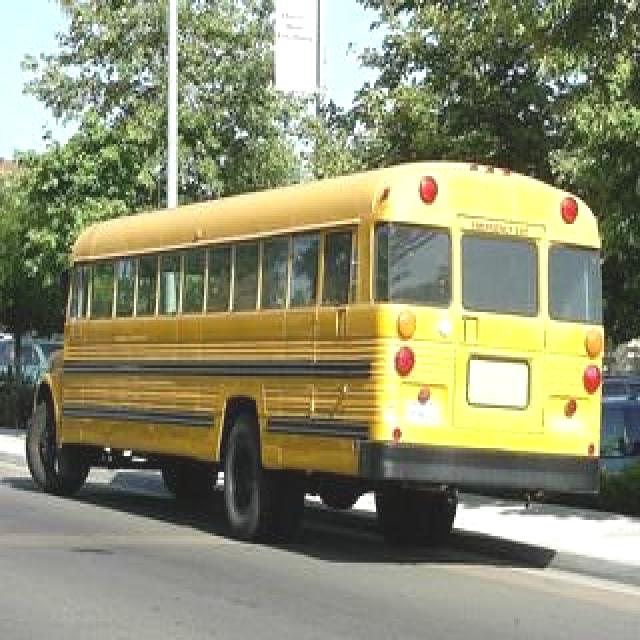Bus: (22, 155, 613, 537)
